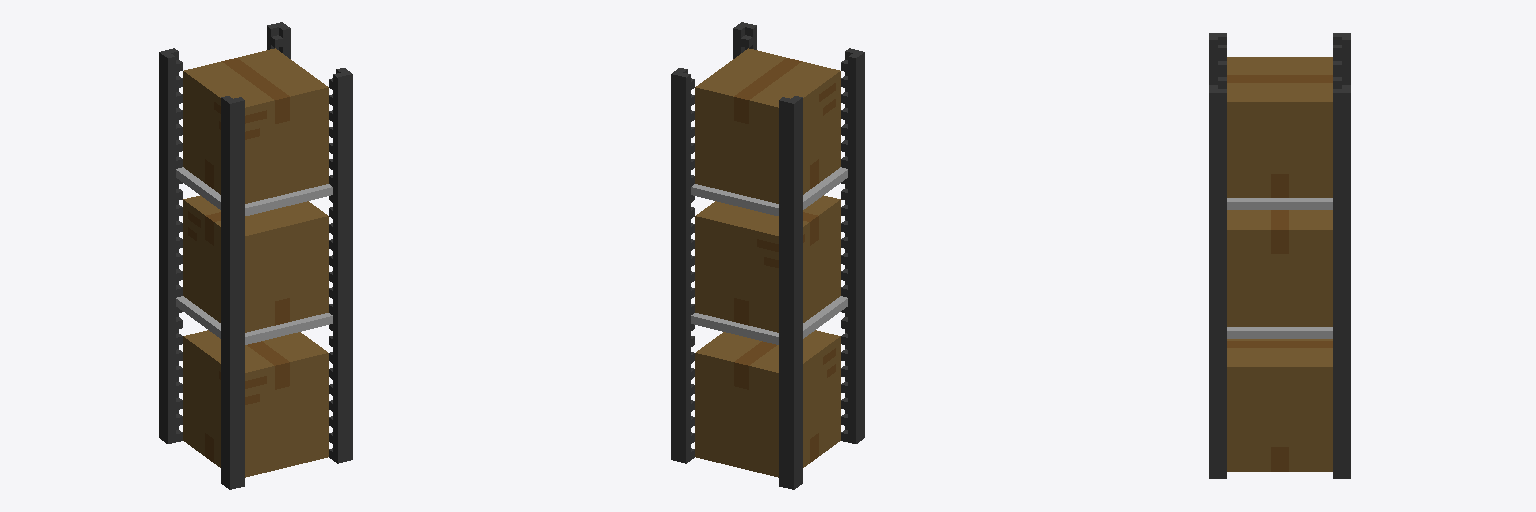
The picture shows the model from 3 angles: view 1: azimuth 30°, elevation 25°; view 2: azimuth 150°, elevation 25°; view 3: azimuth 270°, elevation 25°; orthographic projection.
Visible parts, largest first — view 1: object 1; view 2: object 1; view 3: object 1.
Part boxes in pixels (left/top/right/bottom): object 1: left=159, top=22, right=352, bottom=489; object 1: left=671, top=22, right=864, bottom=489; object 1: left=1209, top=33, right=1350, bottom=478.
Size of the model in its own units: 1.6 by 4.8 by 1.6.
1 materials, 1 textured.